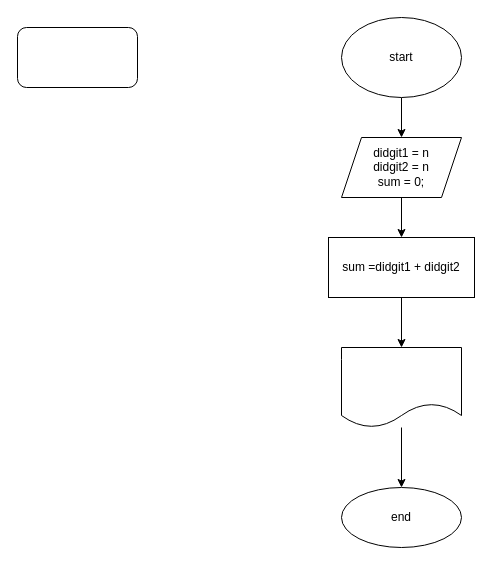
The diagram is 492 pixels wide and 565 high, and some of its shapes have lost their labels. The box of each missing label's shape, as (x1, y1, x2, y2) in pixels:
Find sum of two didgit: (16, 26, 138, 88)
print sum: (340, 346, 462, 428)
